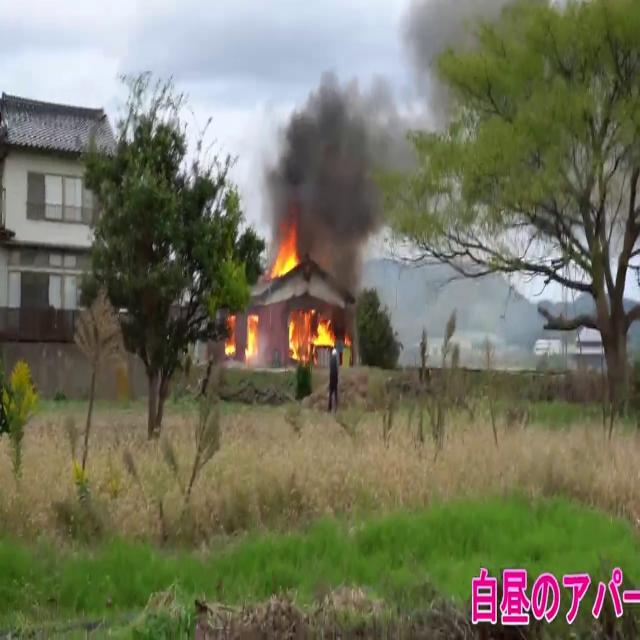Fire: (232, 296, 338, 365), (269, 228, 302, 282)
Smoke: (266, 54, 428, 271)
